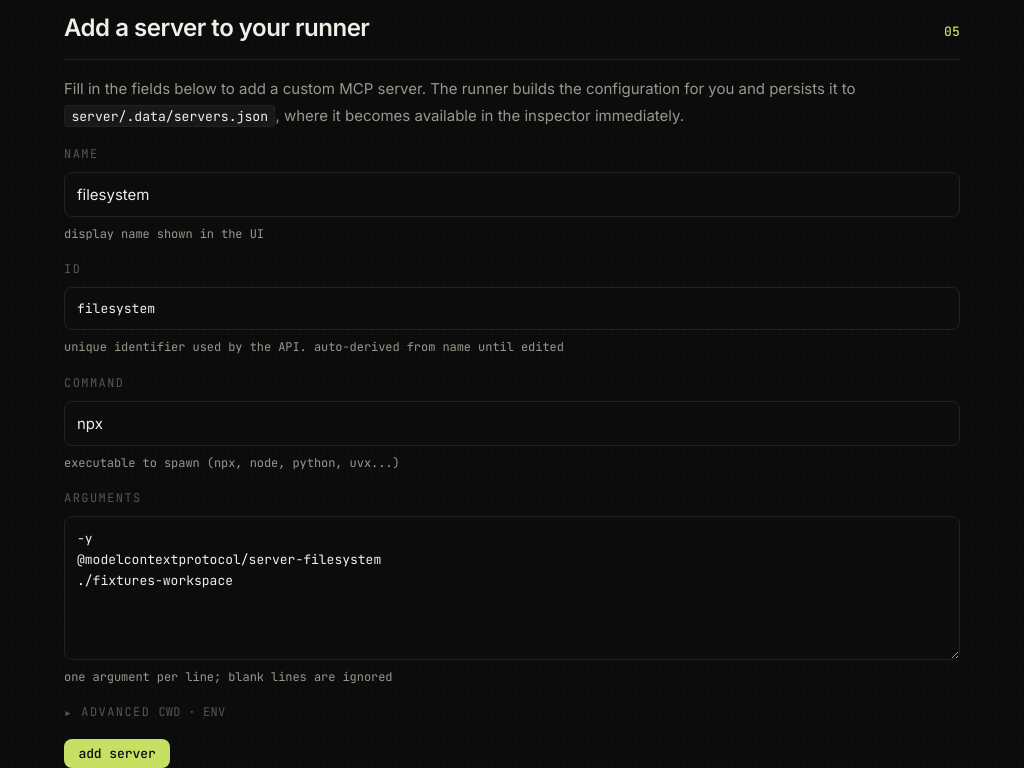
Test: HomePage › surfaces a server-side 400 error in the ErrorBanner
The image size is (1024, 768).
(page scrolled)
Click the button "add server". click: (117, 753)
box: [64, 738, 170, 767]
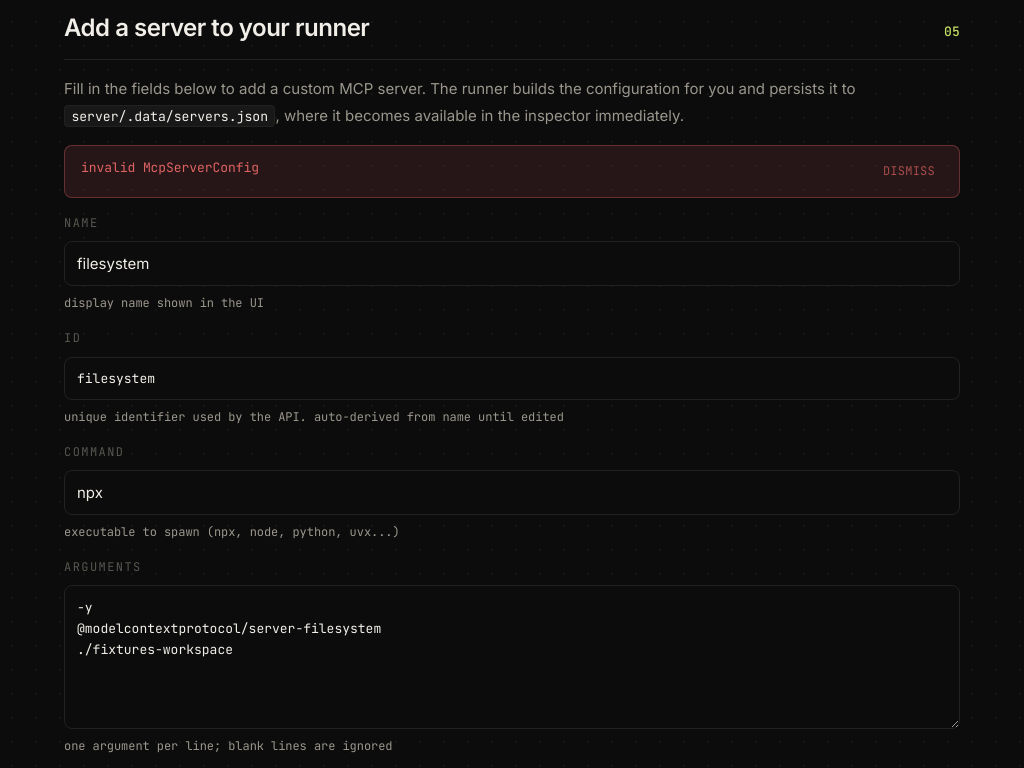
Expected: the message shows "invalid McpServerConfig", [81, 159, 259, 176]
